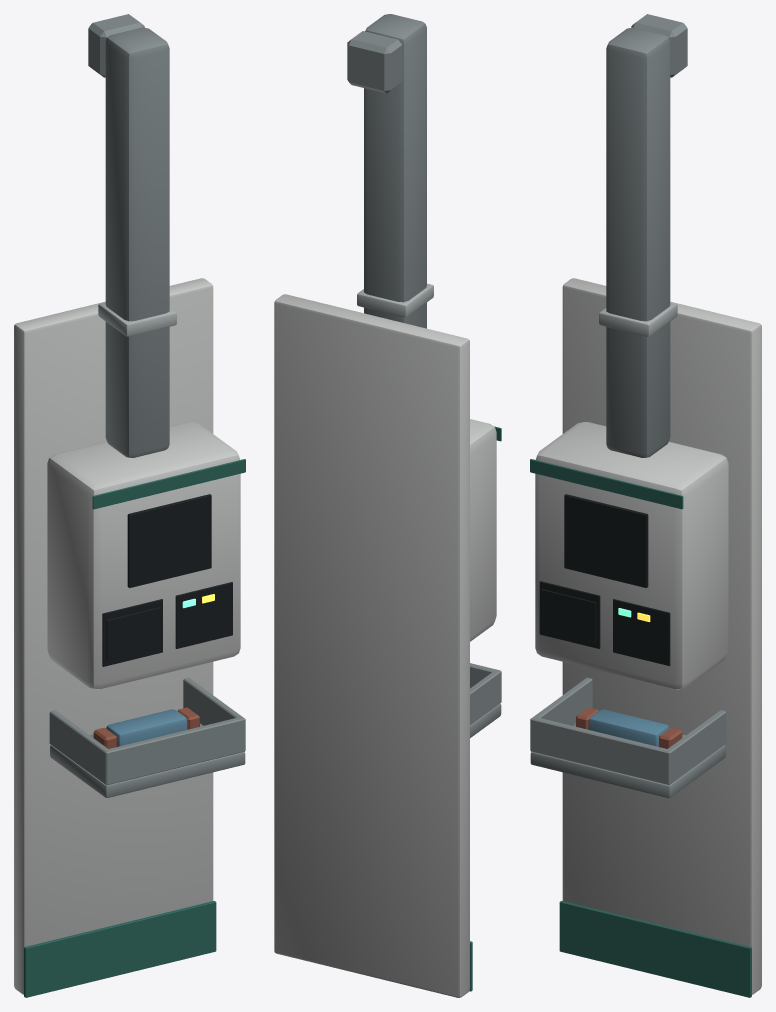
Rendered from pneumatic-tube-station.glb.
The picture shows the model from 3 angles, left to right: view 1: azimuth 30°, elevation 25°; view 2: azimuth 150°, elevation 25°; view 3: azimuth 330°, elevation 25°; orthographic projection.
Visible parts, largest first — view 1: pneumatic-tube-station; view 2: pneumatic-tube-station; view 3: pneumatic-tube-station.
Part boxes in pixels (<box>): pneumatic-tube-station: <box>14,14,245,997</box>; pneumatic-tube-station: <box>274,14,501,997</box>; pneumatic-tube-station: <box>530,14,761,997</box>.
Size of the model in its own units: 0.6 by 2.85 by 0.37.
